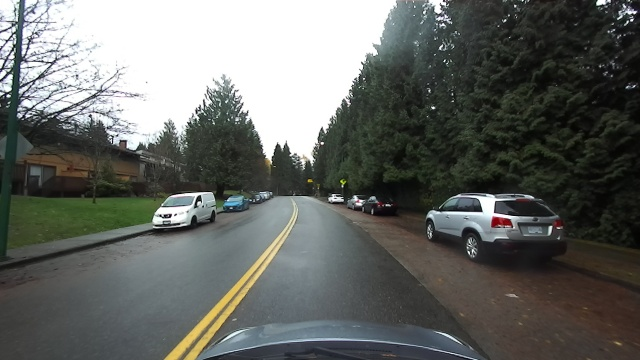car: (424, 188, 570, 269), (150, 190, 219, 231), (363, 193, 400, 217), (222, 193, 250, 212), (346, 196, 364, 210), (327, 193, 346, 205), (249, 194, 263, 204), (260, 191, 271, 199)
